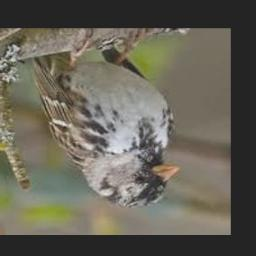Sparrow: (31, 28, 179, 208)
